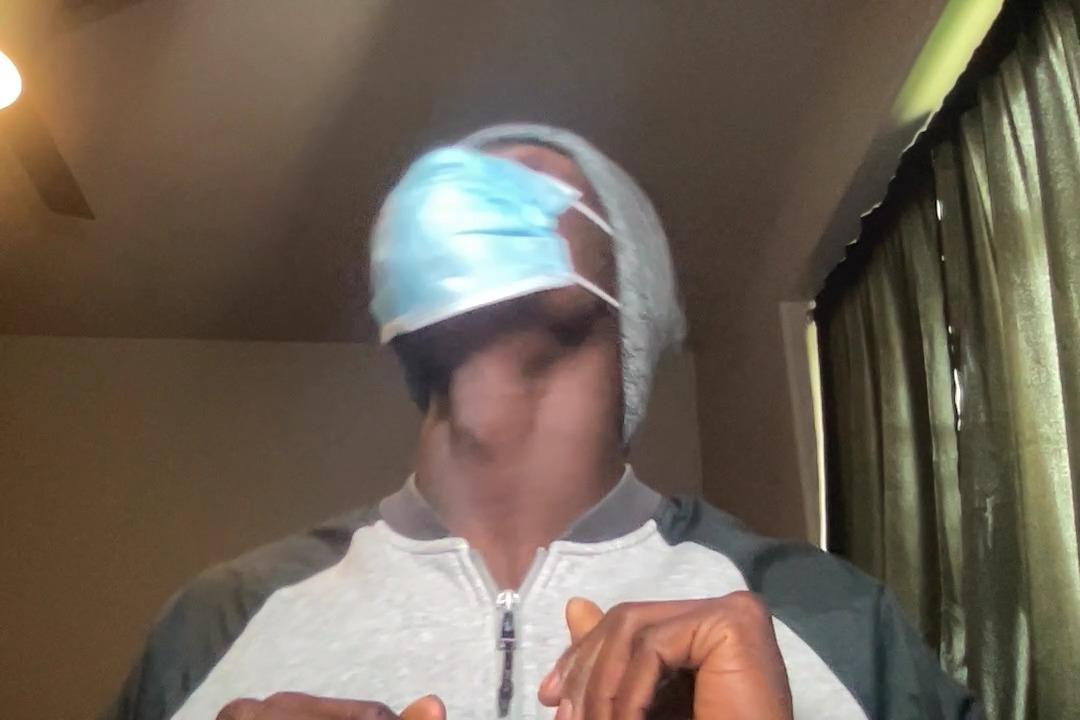face: (364, 122, 614, 382)
